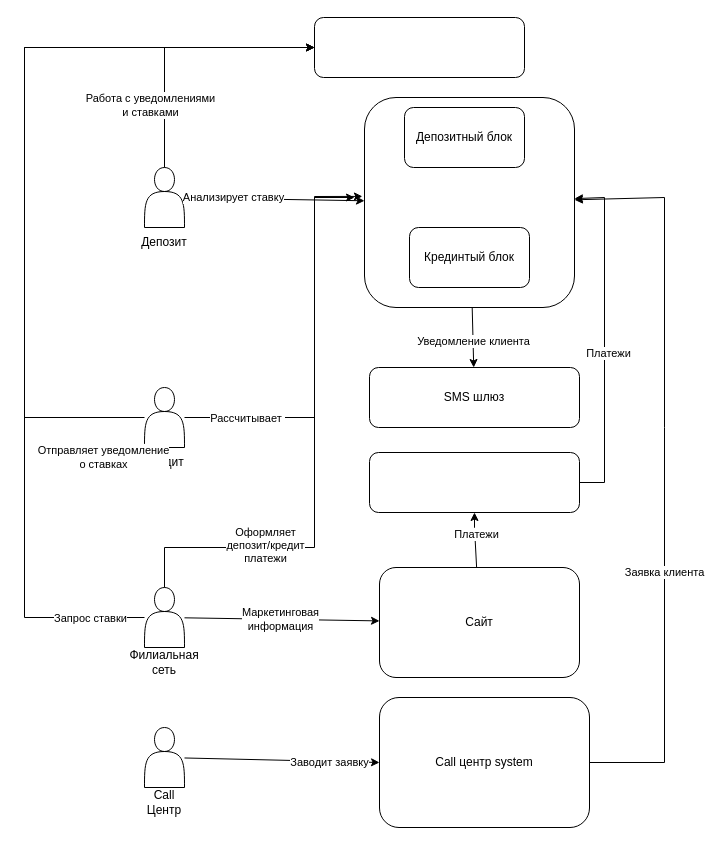
This 721x845 diagram has some shape labels left out. The shapes that lost their labels are listed below. From the top down, each one's box as (x1, y1, x2, y2) in pixels, then its label:
(314, 16, 524, 78): Почтовая система
(364, 96, 574, 308): АБС
(368, 452, 580, 512): Интернет банк
